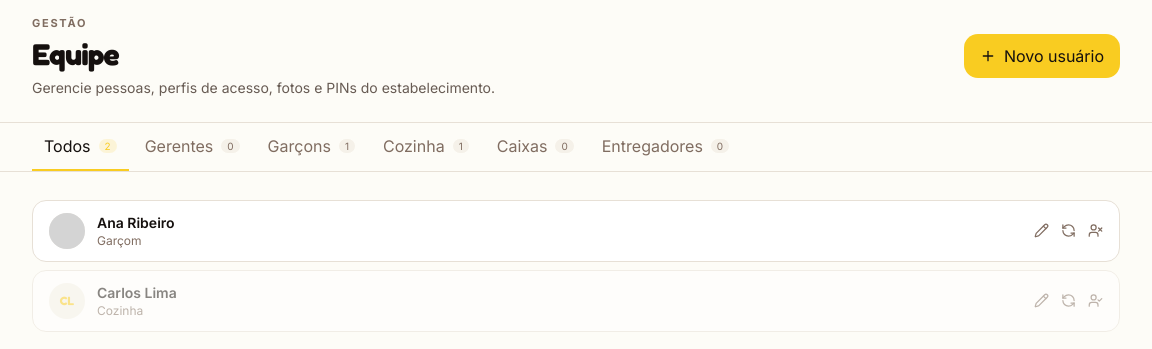
Test: UsersTab › as subabas por perfil filtram a equipe sem alterar os dados carregados
Expected: the text "Ana Ribeiro" is shown, [97,212,175,232]
What coordinates should you click on to do the following:
click the tab "Cozinha 1"
I would click on:
 (426, 146)
Its box is [371,122,481,170].
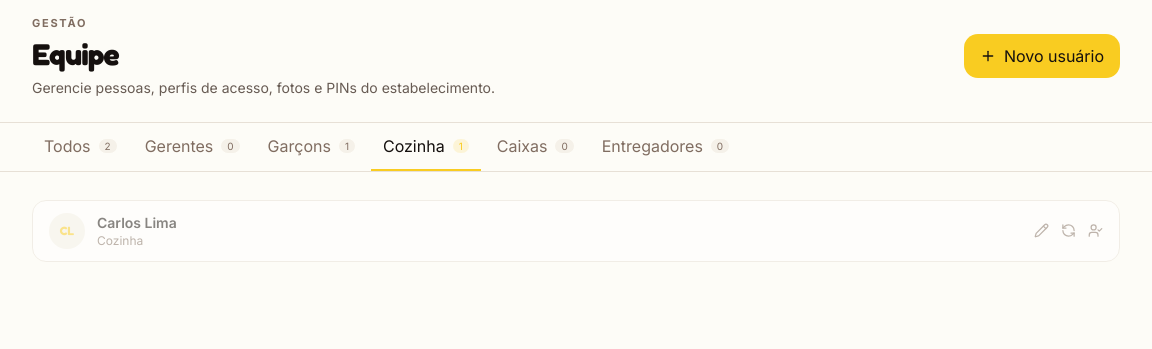
Expected: the text "Carlos Lima" is shown, [97,212,177,232]
Result: the text "Ana Ribeiro" is gone
